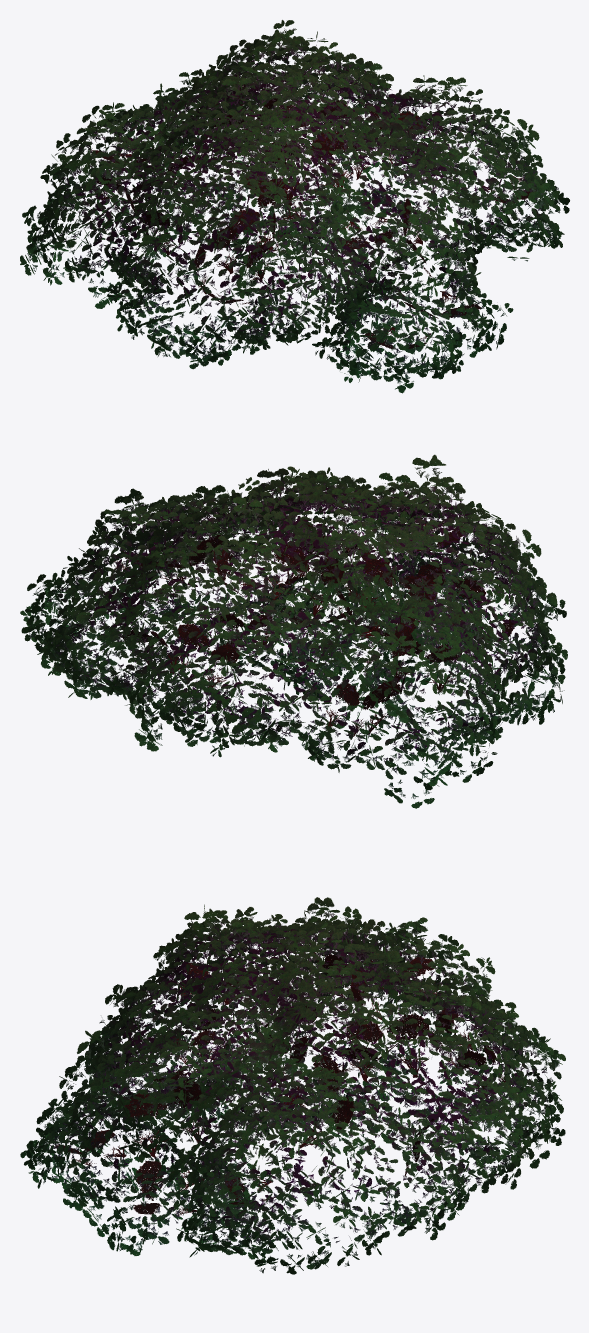
Rendered from trp_flame2.glb.
The picture shows the model from 3 angles, top to bottom: view 1: azimuth 30°, elevation 25°; view 2: azimuth 150°, elevation 25°; view 3: azimuth 270°, elevation 25°; orthographic projection. The views are drawn at different scales.
Parts seen in each view (by area): view 1: SM_Env_Tree_Pohutukawa_02_LOD0, SM_Env_Tree_Pohutukawa_02_Branches_LOD0; view 2: SM_Env_Tree_Pohutukawa_02_LOD0, SM_Env_Tree_Pohutukawa_02_Branches_LOD0; view 3: SM_Env_Tree_Pohutukawa_02_LOD0, SM_Env_Tree_Pohutukawa_02_Branches_LOD0.
Part boxes in pixels (box(x1,y1,x2,y2)): SM_Env_Tree_Pohutukawa_02_LOD0: box(20, 20, 569, 393); SM_Env_Tree_Pohutukawa_02_Branches_LOD0: box(92, 84, 536, 349); SM_Env_Tree_Pohutukawa_02_LOD0: box(20, 454, 567, 808); SM_Env_Tree_Pohutukawa_02_Branches_LOD0: box(113, 522, 514, 736); SM_Env_Tree_Pohutukawa_02_LOD0: box(20, 897, 565, 1274); SM_Env_Tree_Pohutukawa_02_Branches_LOD0: box(54, 952, 505, 1215).
Size of what is drawn, in the model's own units: 8.64 by 5.97 by 8.03.
1 material, 1 textured.
